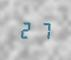seven: (35, 20, 50, 40)
two: (19, 19, 34, 39)
